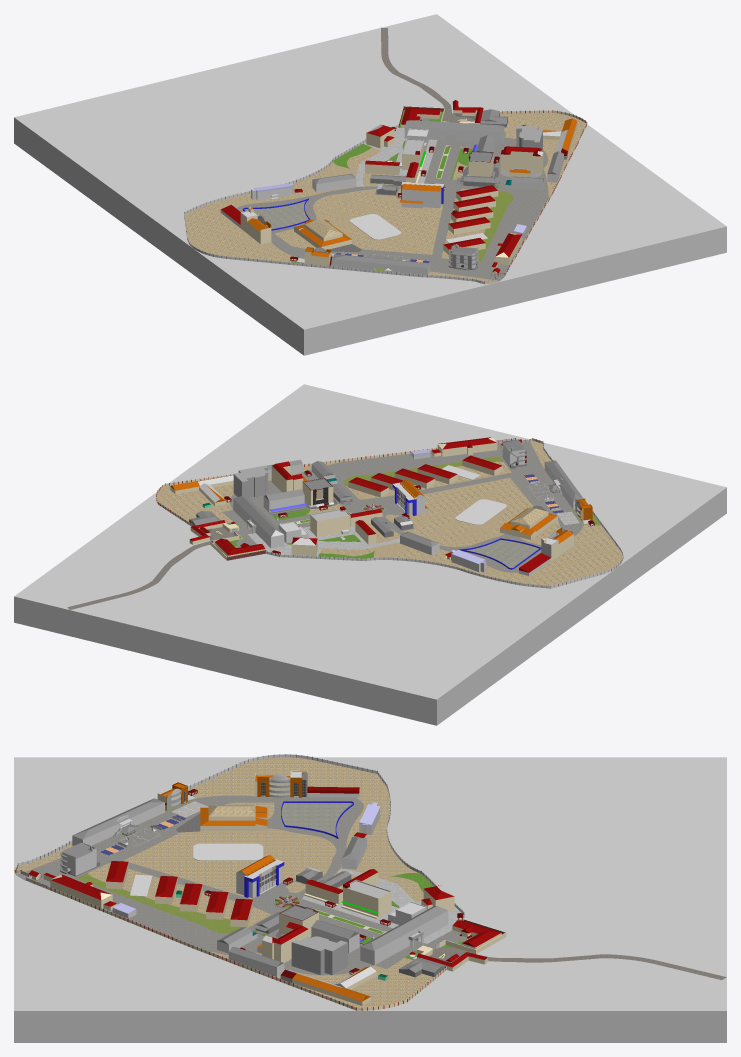
File: campus.glb
3 renders of one model, top to bottom at view 1: azimuth 30°, elevation 25°; view 2: azimuth 150°, elevation 25°; view 3: azimuth 270°, elevation 25°, orthographic. The views are drawn at different scales.
Parts seen in each view (by area): view 1: _(Loose Entity), _G-Object (Loose Mesh), G-Object.319, _G-Object.017 (Loose Mesh), G-Object.340, G-Object.301, G-Object.030, G-Object.303, G-Object.309, G-Object.328, G-Object.322, G-Object.321 (+5 smaller); view 2: _(Loose Entity), _G-Object (Loose Mesh), G-Object.319, G-Object.301, _G-Object.017 (Loose Mesh), G-Object.323, G-Object.321, G-Object.328, G-Object.030, G-Object.327, G-Object.330, G-Object.322 (+5 smaller); view 3: _(Loose Entity), _G-Object (Loose Mesh), G-Object.319, _G-Object.017 (Loose Mesh), G-Object.323, G-Object.301, G-Object.328, G-Object.321, G-Object.030, G-Object.303, G-Object.340, G-Object.330 (+17 smaller).
Boxes of the visible parts, bbox=[...] form: _(Loose Entity): bbox=[14, 14, 726, 355]; _G-Object (Loose Mesh): bbox=[184, 27, 585, 284]; G-Object.319: bbox=[404, 120, 504, 143]; _G-Object.017 (Loose Mesh): bbox=[331, 253, 430, 274]; G-Object.340: bbox=[500, 146, 543, 177]; G-Object.301: bbox=[294, 219, 351, 249]; G-Object.030: bbox=[399, 181, 444, 208]; G-Object.303: bbox=[240, 206, 271, 244]; G-Object.309: bbox=[448, 244, 478, 270]; G-Object.328: bbox=[543, 118, 577, 159]; G-Object.322: bbox=[466, 151, 495, 176]; G-Object.321: bbox=[400, 138, 426, 170]; _(Loose Entity): bbox=[14, 384, 726, 725]; _G-Object (Loose Mesh): bbox=[67, 440, 622, 609]; G-Object.319: bbox=[233, 496, 284, 548]; G-Object.301: bbox=[500, 507, 557, 539]; _G-Object.017 (Loose Mesh): bbox=[544, 460, 583, 524]; G-Object.323: bbox=[233, 465, 268, 497]; G-Object.321: bbox=[309, 506, 350, 537]; G-Object.328: bbox=[170, 475, 233, 506]; G-Object.030: bbox=[392, 479, 428, 515]; G-Object.327: bbox=[263, 489, 306, 515]; G-Object.330: bbox=[437, 437, 497, 456]; G-Object.322: bbox=[302, 478, 334, 507]; _(Loose Entity): bbox=[14, 757, 726, 1042]; _G-Object (Loose Mesh): bbox=[14, 757, 726, 1007]; G-Object.319: bbox=[360, 906, 448, 965]; _G-Object.017 (Loose Mesh): bbox=[72, 798, 208, 845]; G-Object.323: bbox=[291, 936, 347, 975]; G-Object.301: bbox=[200, 805, 267, 831]; G-Object.328: bbox=[280, 966, 376, 1005]; G-Object.321: bbox=[341, 879, 391, 918]; G-Object.030: bbox=[236, 854, 284, 898]; G-Object.303: bbox=[254, 770, 307, 797]; G-Object.340: bbox=[256, 922, 308, 962]; G-Object.330: bbox=[50, 874, 112, 908].
Size of the model in its own units: 8.8 by 0.9242 by 10.45.
Materials: 53 (30 with a texture image).
